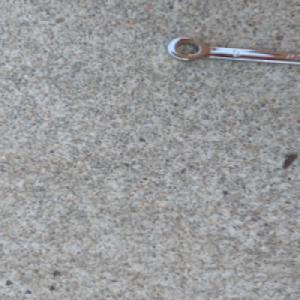Wrench: (164, 35, 300, 66)
